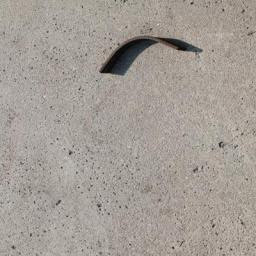FOD: (98, 35, 190, 79)
